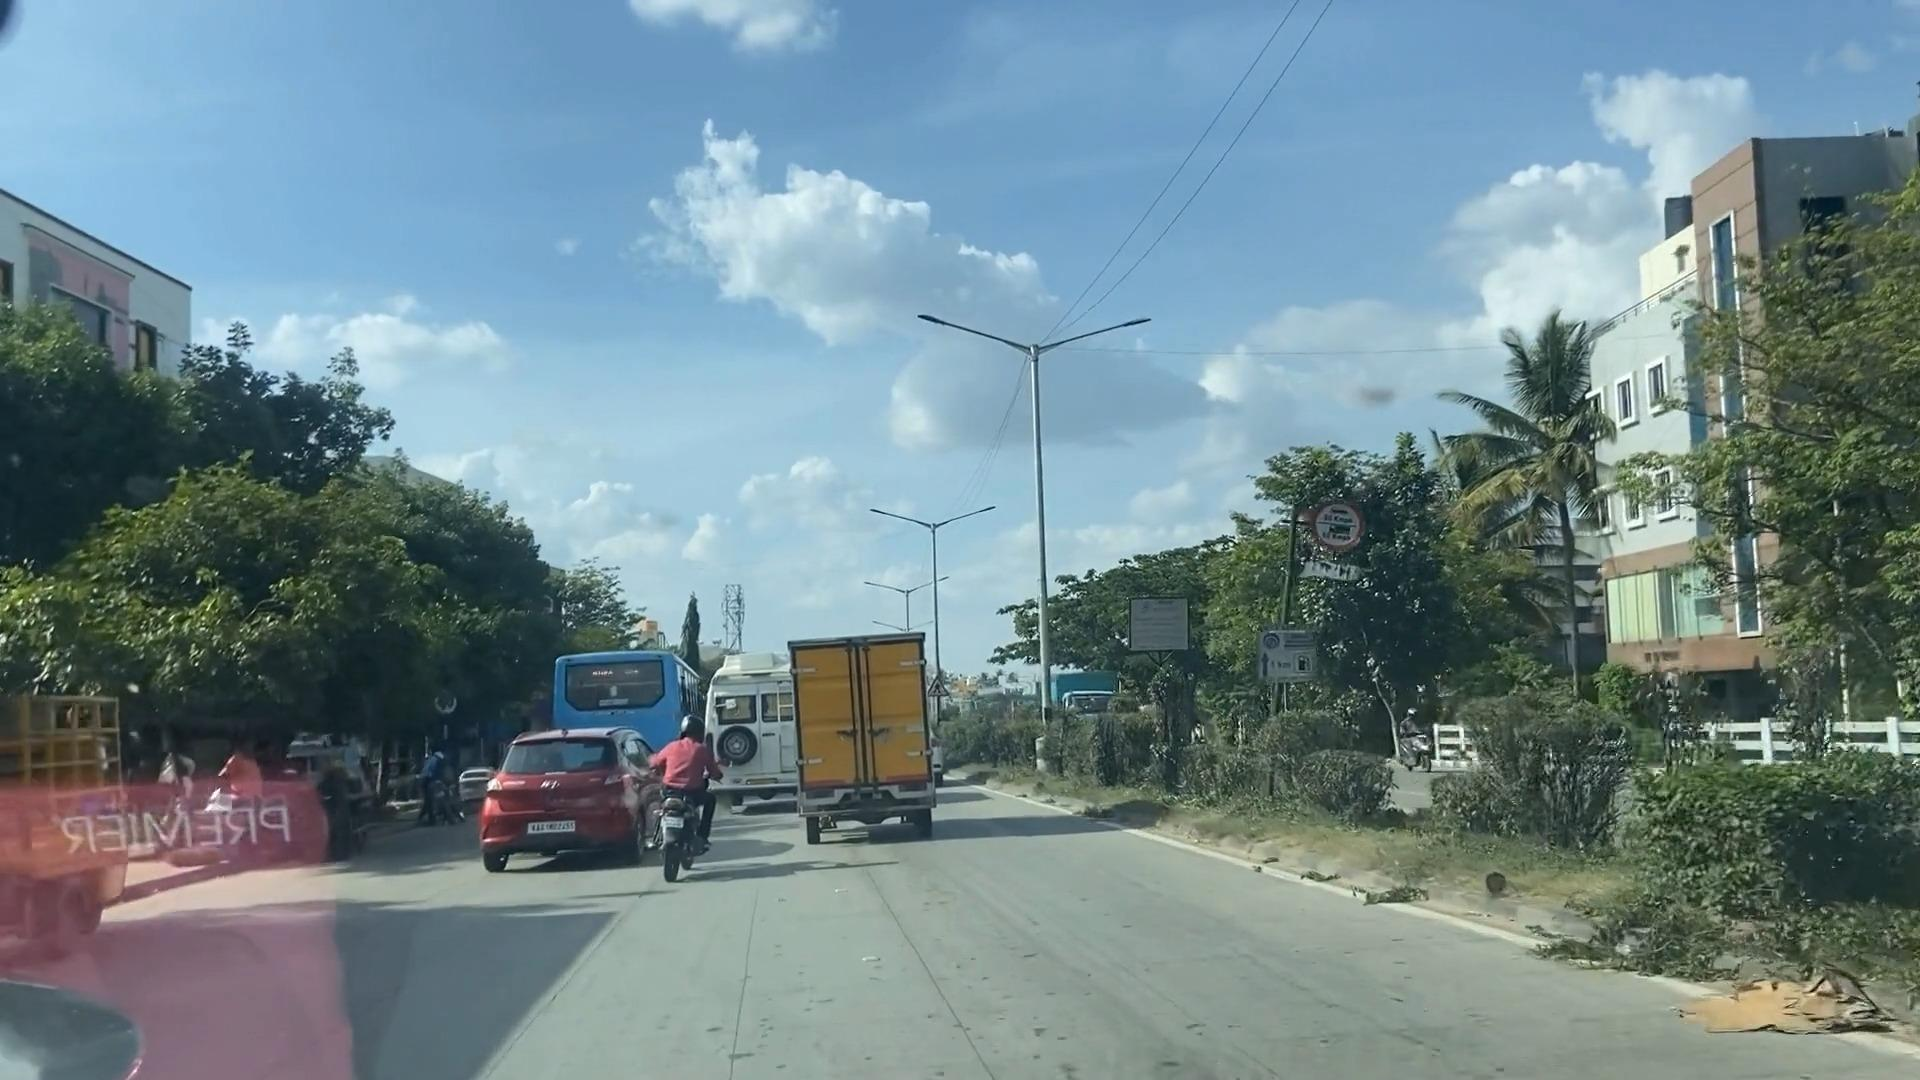LMV: (793, 626, 948, 832)
